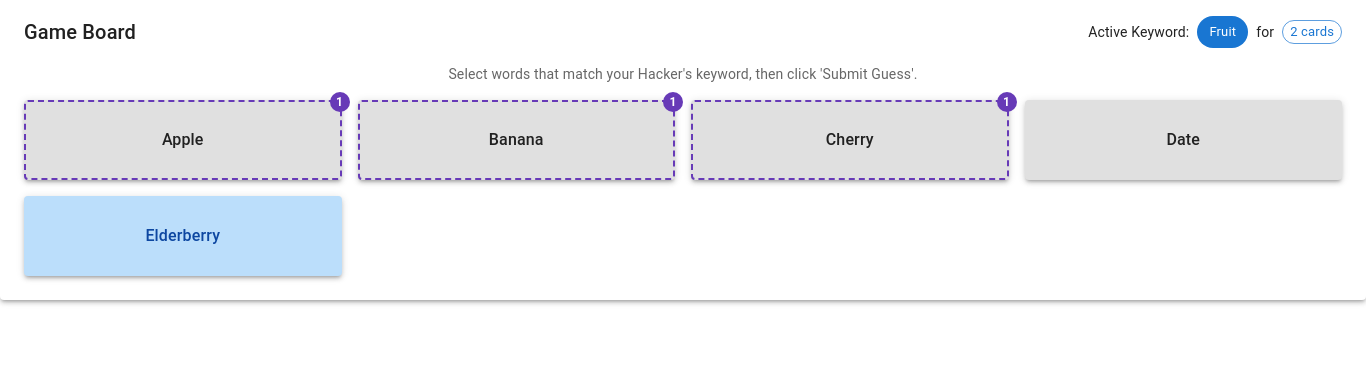
Test: GameBoard › Submit Button Behavior › shows submit button for team members with selections
The image size is (1366, 383).
Select a card first
Click the text "Apple".
click(183, 140)  # box [162, 128, 204, 152]
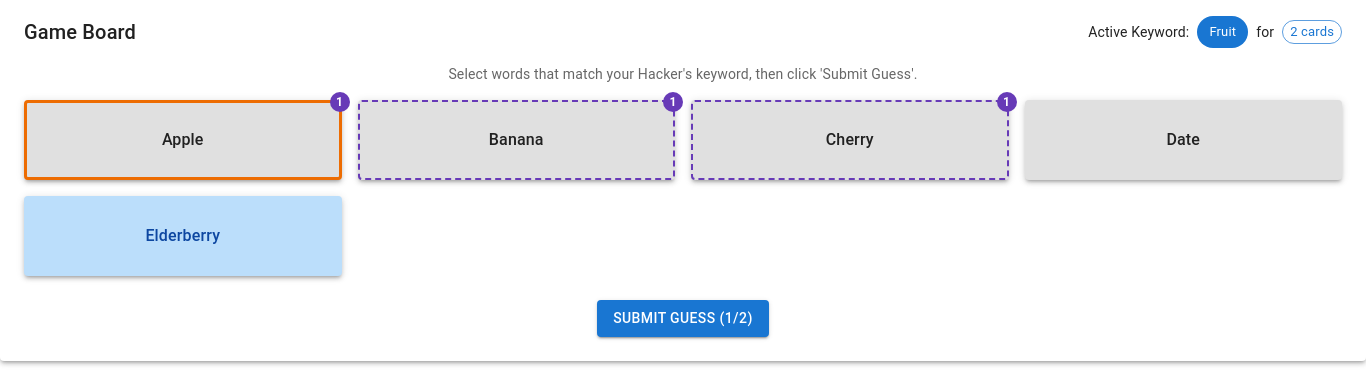
Now the button "Submit Guess (1/2)" is shown, box [597, 300, 769, 336]
